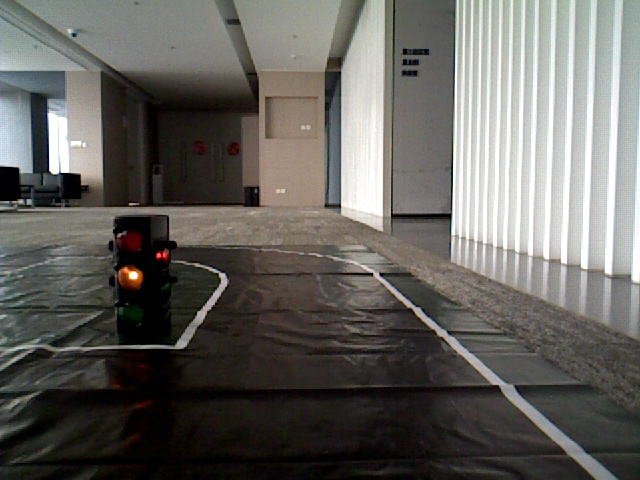yellow: (114, 221, 152, 323)
